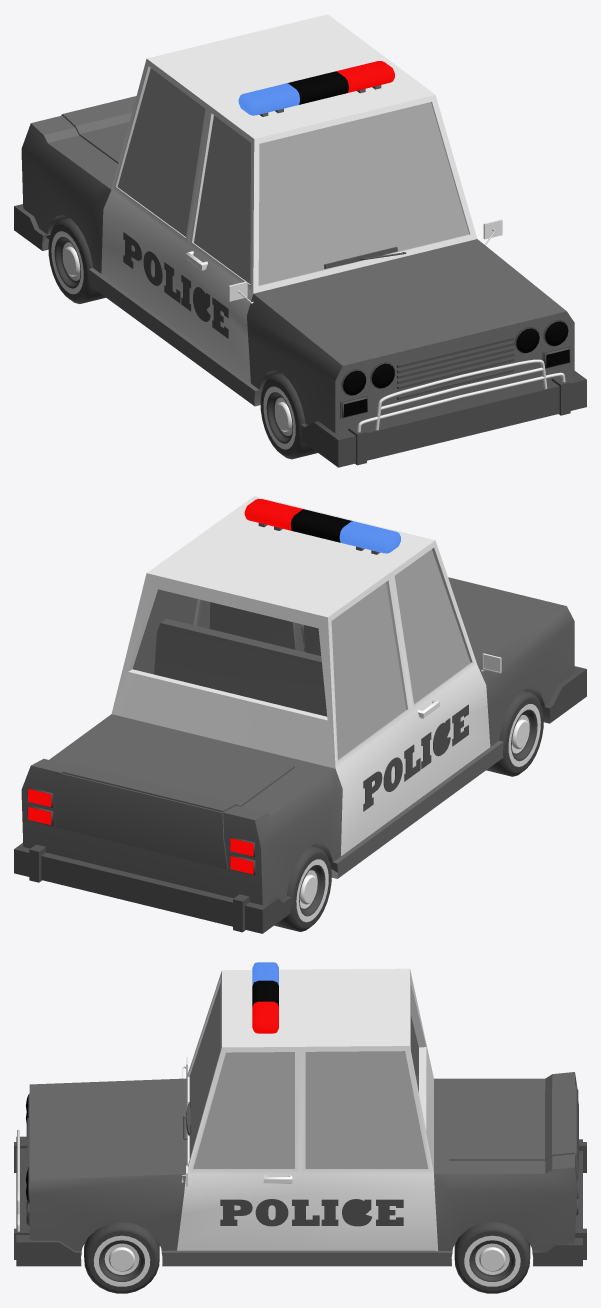
Rendered from car2.fbx.
The picture shows the model from 3 angles, top to bottom: view 1: azimuth 30°, elevation 25°; view 2: azimuth 150°, elevation 25°; view 3: azimuth 270°, elevation 25°; orthographic projection. The views are drawn at different scales.
Visible parts, largest first — view 1: Police_car, Cube, Head_lights_9, Front_wheel_left_9, Back_wheel_left_10, POLICE_TEXT; view 2: Police_car, Seats_15, Cube, Back_wheel_left_10, Front_wheel_left_9, POLICE_TEXT, Back_lights_8; view 3: Police_car, Back_wheel_right_10, Front_wheel_right_10, POLICE_TEXT, Cube.
Part boxes in pixels (x1,y1,x2,y2): Police_car: [14, 14, 586, 467]; Cube: [238, 61, 394, 115]; Head_lights_9: [340, 319, 570, 418]; Front_wheel_left_9: [260, 373, 317, 459]; Back_wheel_left_10: [48, 218, 105, 303]; POLICE_TEXT: [123, 232, 228, 338]; Police_car: [14, 496, 586, 933]; Seats_15: [154, 602, 326, 716]; Cube: [244, 498, 400, 553]; Back_wheel_left_10: [274, 845, 331, 931]; Front_wheel_left_9: [486, 690, 543, 776]; POLICE_TEXT: [363, 704, 468, 811]; Back_lights_8: [27, 787, 256, 875]; Police_car: [14, 968, 586, 1266]; Back_wheel_right_10: [454, 1222, 530, 1293]; Front_wheel_right_10: [84, 1222, 159, 1293]; POLICE_TEXT: [220, 1199, 403, 1226]; Cube: [252, 962, 278, 1033].
Size of the model in its own units: 366 by 367 by 761.
